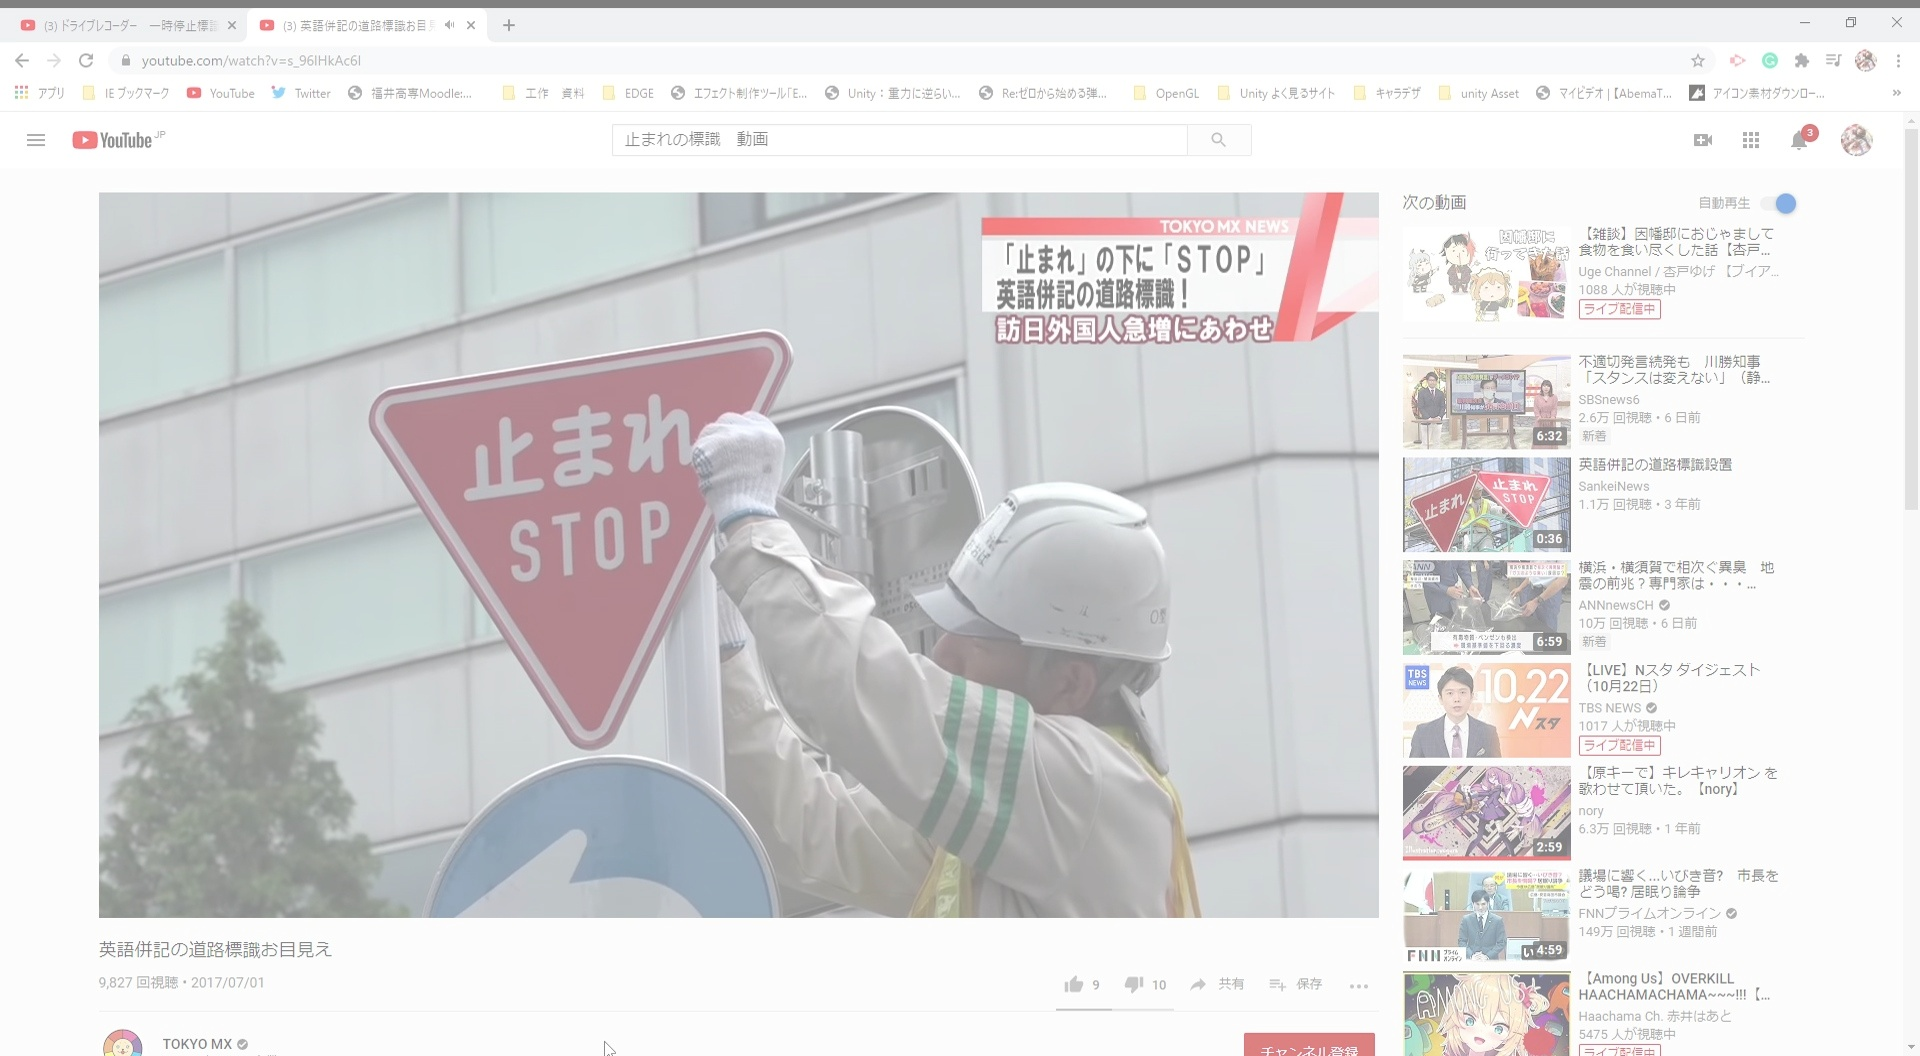Regulatory_sign_triangle: (374, 310, 807, 756)
